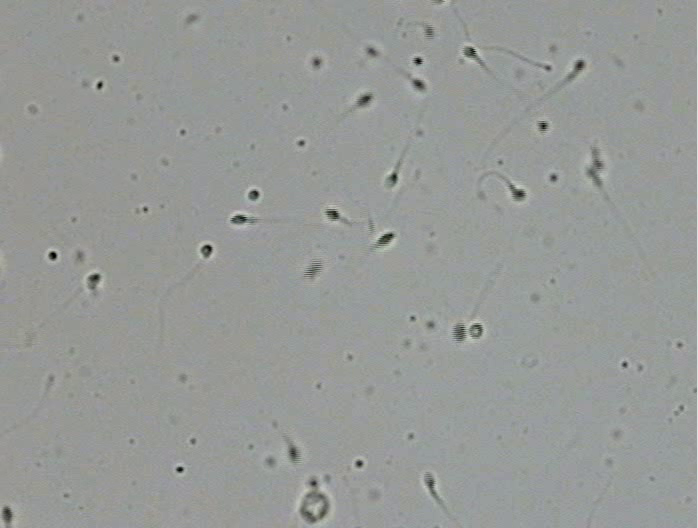Impurity: (299, 477, 329, 523)
S: (303, 260, 323, 280), (451, 322, 467, 342), (375, 232, 395, 248), (584, 166, 600, 185), (286, 445, 301, 463), (423, 471, 436, 490), (86, 273, 101, 289), (469, 323, 484, 339), (355, 94, 373, 107), (324, 208, 340, 221), (385, 172, 398, 188), (462, 46, 478, 59), (1, 506, 13, 523), (410, 79, 426, 91), (230, 214, 249, 224), (536, 120, 549, 134), (573, 59, 586, 73), (200, 245, 213, 258), (592, 158, 605, 171), (423, 24, 434, 39), (512, 189, 525, 200), (248, 190, 260, 201), (366, 47, 377, 57), (412, 56, 424, 65), (312, 58, 321, 67), (433, 1, 444, 4)
